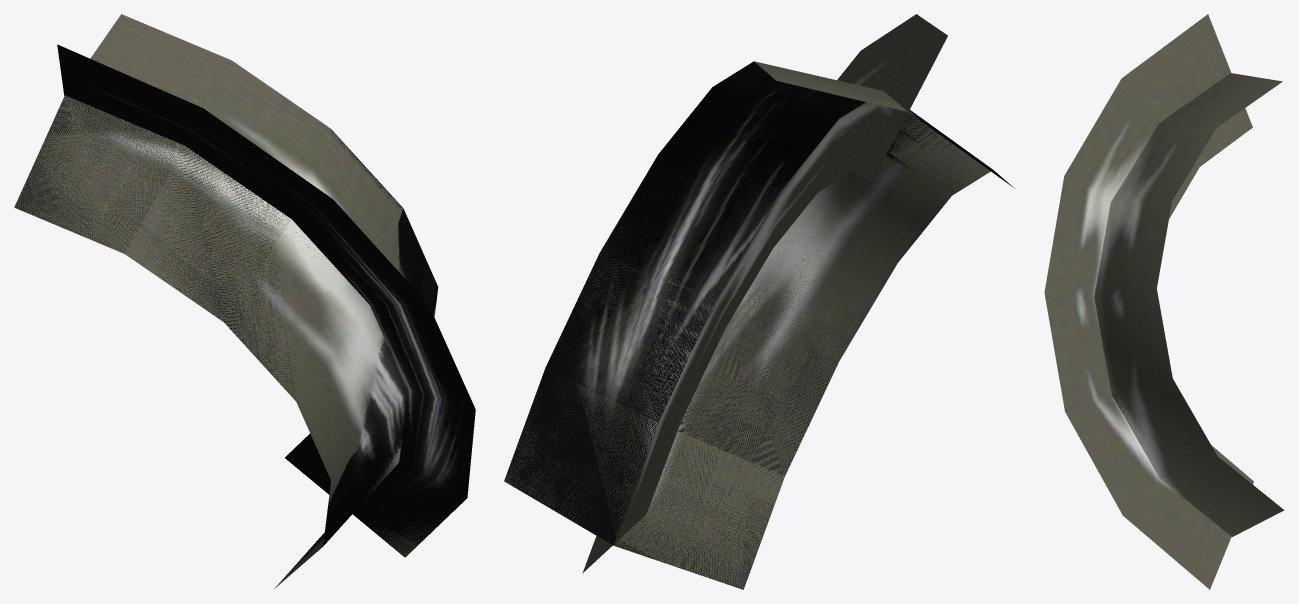
File: Effect_1181_4bigskill_S.fbx
3 renders of one model, left to right at view 1: azimuth 30°, elevation 25°; view 2: azimuth 150°, elevation 25°; view 3: azimuth 270°, elevation 25°, orthographic. The views are drawn at different scales.
Visible parts, largest first — view 1: Sphere002, Sphere002 (1); view 2: Sphere002, Sphere002 (1); view 3: Sphere002.
Part boxes in pixels (x1=…): Sphere002: x1=14, y1=14, x2=448, y2=588; Sphere002 (1): x1=14, y1=44, x2=475, y2=586; Sphere002: x1=504, y1=14, x2=990, y2=589; Sphere002 (1): x1=504, y1=61, x2=1014, y2=589; Sphere002: x1=1044, y1=14, x2=1284, y2=589.
Size of the model in its own units: 4.58 by 6.06 by 2.94.
Materials: 3 (3 with a texture image).
